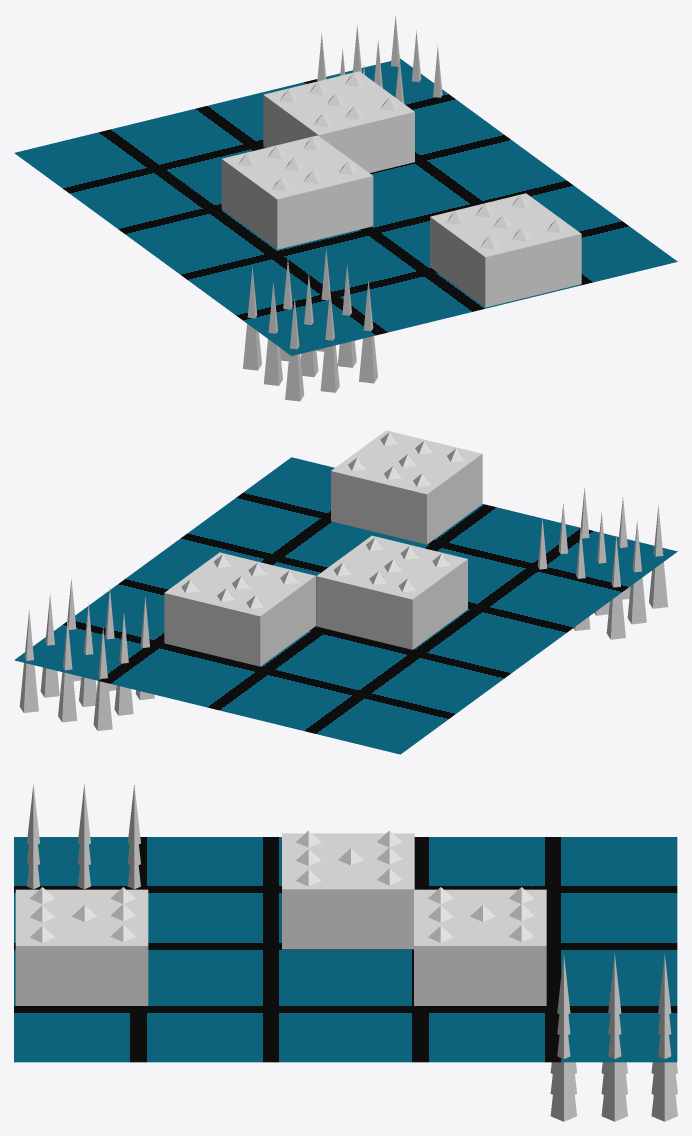
The model's file is room8.glb.
3 views of the same model, one above another, from view 1: azimuth 30°, elevation 25°; view 2: azimuth 150°, elevation 25°; view 3: azimuth 270°, elevation 25° (orthographic). The views are drawn at different scales.
Parts seen in each view (by area): view 1: Plane, Cube.002, Cube.001, Cube, Cone.035, Cone.030, Cone.036, Cone.031, Cone.032, Cone.037, Cone.034; view 2: Plane, Cube, Cube.002, Cube.001, Cone.027, Cone.026, Cone.021, Cone.031, Cone.030, Cone.032, Cone.028, Cone.022 (+1 smaller); view 3: Plane, Cube.001, Cube, Cube.002, Cone.023, Cone.022, Cone.021, Cone.025, Cone.024, Cone.026.
Part boxes in pixels (x1,y1,x2,y2): Plane: (14,58,677,355); Cube.002: (221,135,373,249); Cube.001: (430,193,581,307); Cube: (263,71,414,172); Cone.035: (320,288,339,392); Cone.030: (285,298,304,401); Cone.036: (359,279,377,383); Cone.031: (264,282,282,385); Cone.032: (243,266,261,370); Cone.037: (337,264,356,367); Cone.034: (300,273,318,377); Plane: (14,457,677,754); Cube: (164,552,315,666); Cube.002: (316,535,467,649); Cube.001: (331,430,482,544); Cone.027: (93,627,112,730); Cone.026: (58,619,77,722); Cone.021: (19,610,38,712); Cone.031: (627,520,646,624); Cone.030: (649,504,667,608); Cone.032: (606,537,625,639); Cone.028: (114,613,133,715); Cone.022: (40,594,59,697); Plane: (14,837,677,1062); Cube.001: (15,889,148,1005); Cube: (414,889,546,1005); Cube.002: (282,833,414,949); Cone.023: (550,996,576,1121); Cone.022: (601,996,627,1121); Cone.021: (651,997,677,1121); Cone.025: (601,974,627,1094); Cone.024: (550,974,576,1094); Cone.026: (651,975,677,1094).
Size of what is drawn, in the model's own units: 4.02 by 1.1 by 5.01.
1 material, 1 textured.
